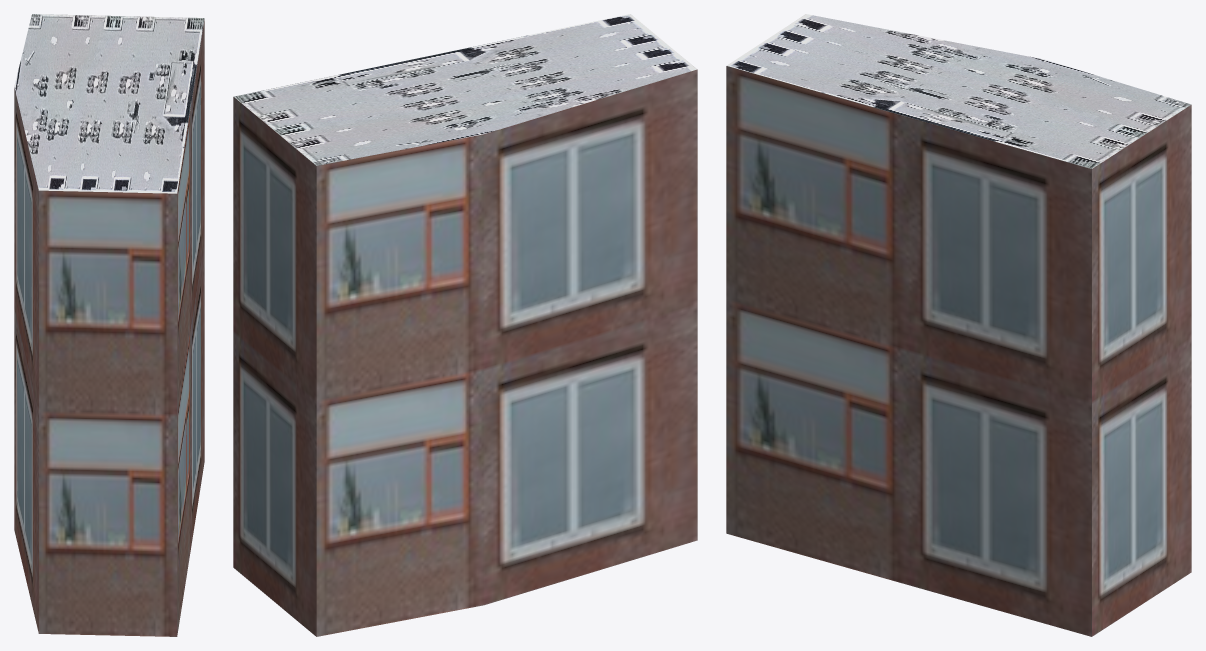
File: ResTex__4543.fbx
3 renders of one model, left to right at view 1: azimuth 30°, elevation 25°; view 2: azimuth 150°, elevation 25°; view 3: azimuth 270°, elevation 25°, orthographic. The views are drawn at different scales.
Parts seen in each view (by area): view 1: CityEngineMaterial_19_m, CityEngineMaterial_15_m; view 2: CityEngineMaterial_19_m, CityEngineMaterial_15_m; view 3: CityEngineMaterial_19_m, CityEngineMaterial_15_m.
Part boxes in pixels (x1=…): CityEngineMaterial_19_m: x1=14, y1=19, x2=204, y2=636; CityEngineMaterial_15_m: x1=14, y1=14, x2=204, y2=193; CityEngineMaterial_19_m: x1=233, y1=69, x2=697, y2=636; CityEngineMaterial_15_m: x1=234, y1=14, x2=696, y2=165; CityEngineMaterial_19_m: x1=726, y1=66, x2=1191, y2=636; CityEngineMaterial_15_m: x1=726, y1=14, x2=1191, y2=168.
Size of the model in its own units: 4.27 by 6 by 5.41.
Materials: 2 (2 with a texture image).
